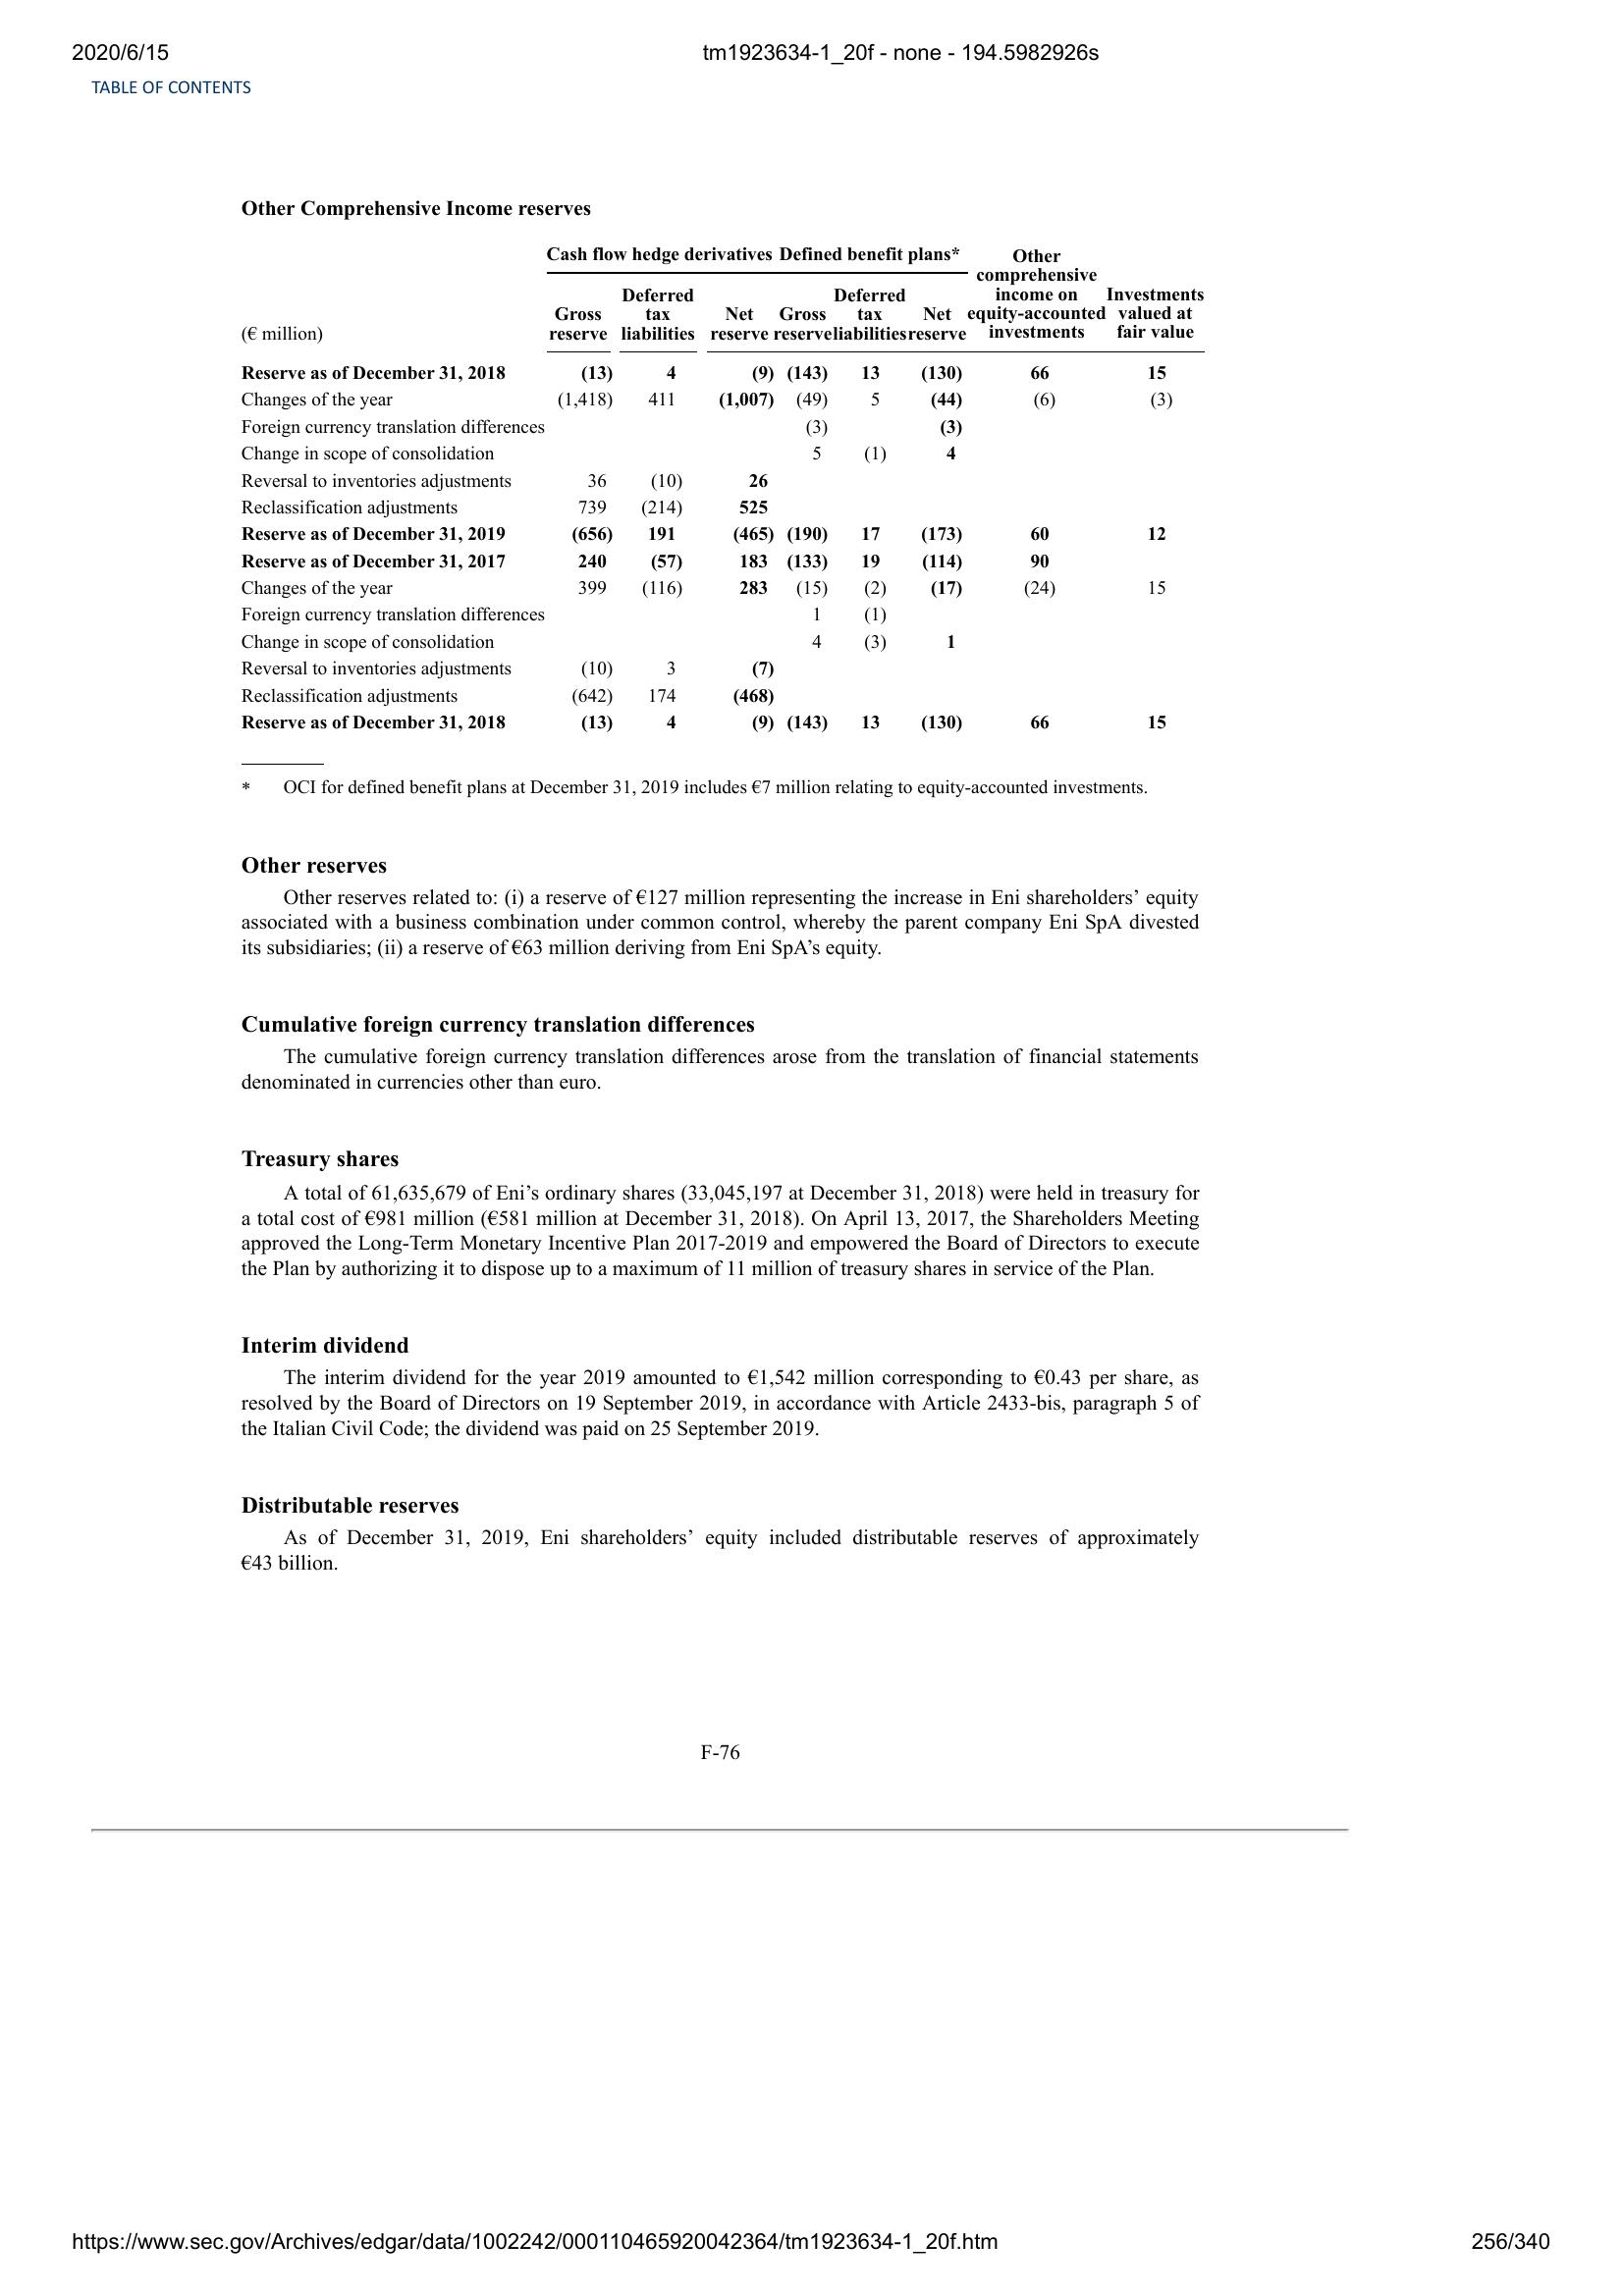table: (235, 242, 1212, 743)
